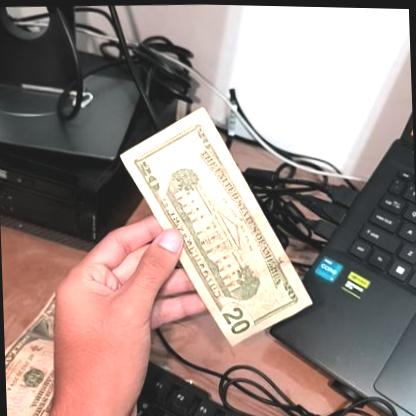twenty-back: (118, 99, 314, 351)
